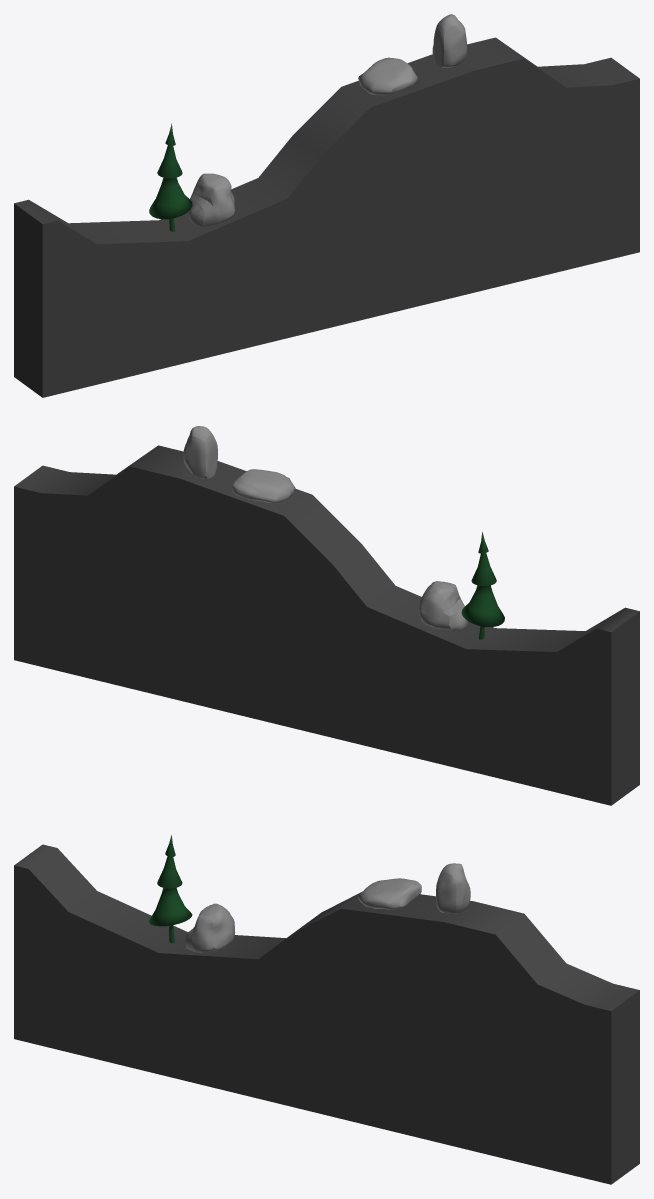
The model's file is Plateau_R_1.fbx.
3 renders of one model, top to bottom at view 1: azimuth 30°, elevation 25°; view 2: azimuth 150°, elevation 25°; view 3: azimuth 330°, elevation 25°, orthographic.
Parts seen in each view (by area): view 1: polySurface2, polySurface4, polySurface5, polySurface3, polySurface1; view 2: polySurface2, polySurface5, polySurface4, polySurface3, polySurface1; view 3: polySurface2, polySurface5, polySurface4, polySurface3, polySurface1.
Boxes of the visible parts, x1,y1,x2,y2 form: polySurface2: (14,37,639,397); polySurface4: (188,173,235,226); polySurface5: (149,123,192,231); polySurface3: (358,57,417,95); polySurface1: (432,14,467,67); polySurface2: (14,445,639,805); polySurface5: (461,532,504,639); polySurface4: (418,581,467,630); polySurface3: (232,469,295,503); polySurface1: (183,426,217,478); polySurface2: (14,844,639,1184); polySurface5: (149,835,192,943); polySurface4: (185,903,235,952); polySurface3: (358,878,421,909); polySurface1: (436,863,470,913).
Size of the model in its own units: 36 by 15.35 by 3.15.
